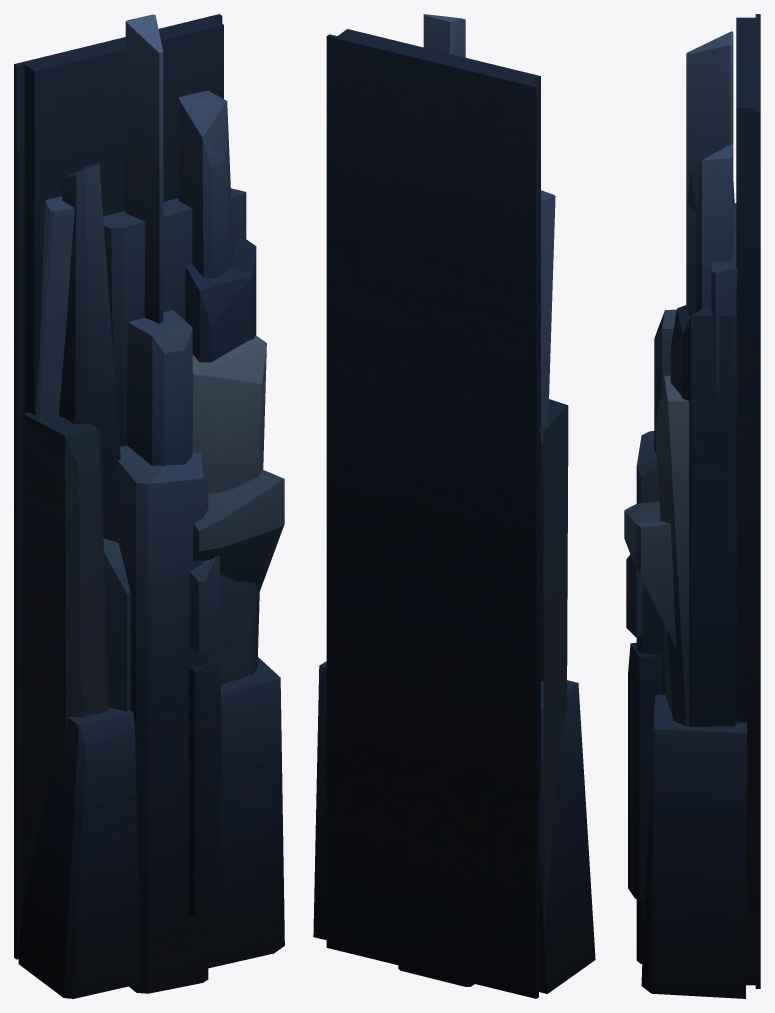
Rendered from Wall_straight_01.glb.
3 views of the same model, side by side, from view 1: azimuth 30°, elevation 25°; view 2: azimuth 150°, elevation 25°; view 3: azimuth 270°, elevation 25° (orthographic). The views are drawn at different scales.
Parts seen in each view (by area): view 1: Wall_straight_01; view 2: Wall_straight_01; view 3: Wall_straight_01.
Part boxes in pixels (bbox=[...]): Wall_straight_01: bbox=[14, 14, 284, 998]; Wall_straight_01: bbox=[313, 14, 595, 998]; Wall_straight_01: bbox=[624, 14, 760, 998].
Size of what is drawn, in the model's own units: 14.56 by 56.38 by 7.61.
1 material, 1 textured.
